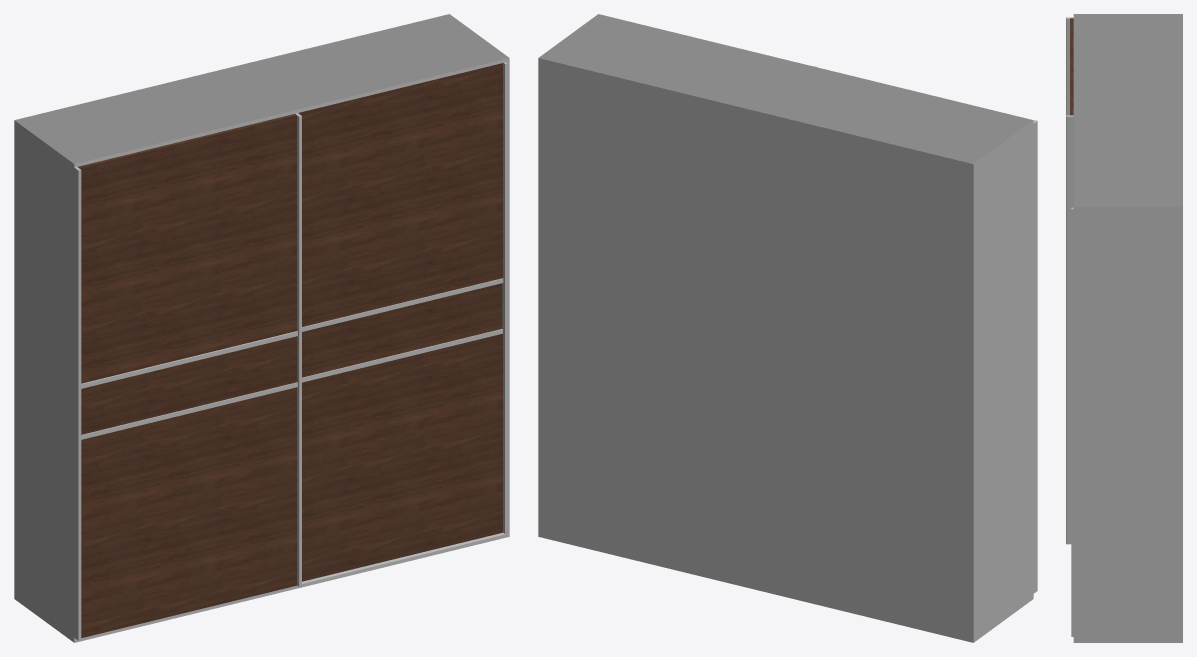
Rendered from QD_1BR_MB_Wardrobe_UN.FBX.
3 views of the same model, side by side, from view 1: azimuth 30°, elevation 25°; view 2: azimuth 150°, elevation 25°; view 3: azimuth 270°, elevation 25° (orthographic). The views are drawn at different scales.
Visible parts, largest first — view 1: Wardrobe, Wardrobe_Cap; view 2: Wardrobe, Wardrobe_Cap; view 3: Wardrobe, Wardrobe_Cap.
Part boxes in pixels (x1,y1,x2,y2): Wardrobe: [14, 58, 509, 642]; Wardrobe_Cap: [14, 14, 508, 163]; Wardrobe: [538, 58, 1037, 642]; Wardrobe_Cap: [539, 14, 1033, 163]; Wardrobe: [1066, 17, 1182, 642]; Wardrobe_Cap: [1073, 14, 1182, 207].
Size of the model in its own units: 2.35 by 2.47 by 0.6.
